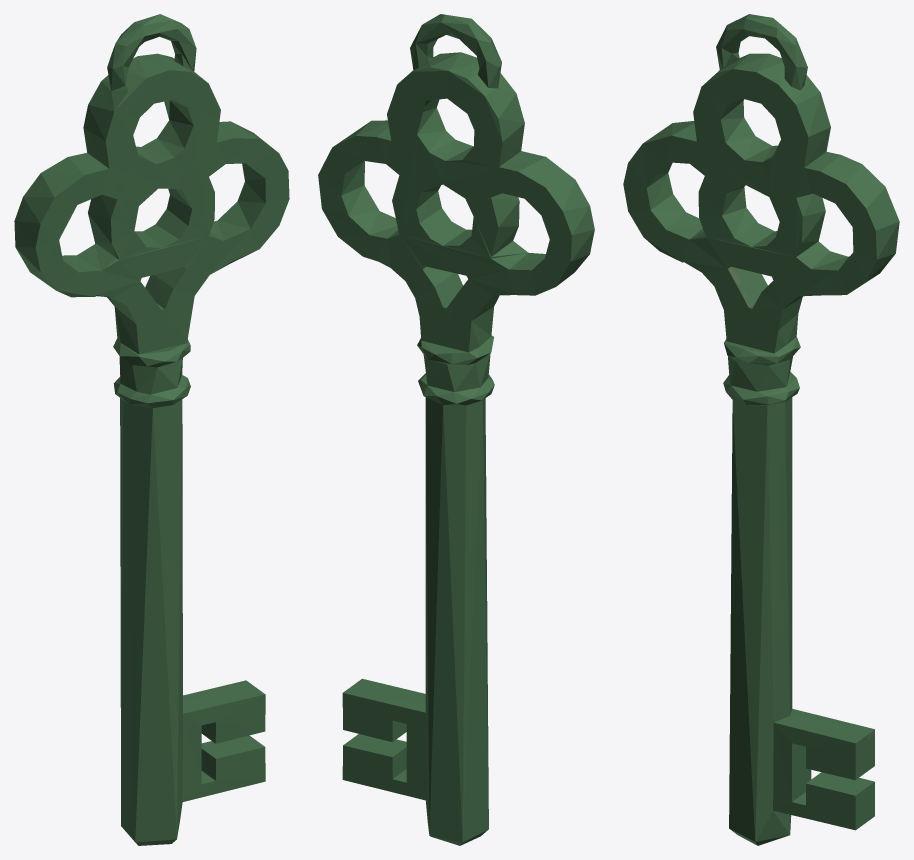
Rendered from key.obj.
The picture shows the model from 3 angles, left to right: view 1: azimuth 30°, elevation 25°; view 2: azimuth 150°, elevation 25°; view 3: azimuth 330°, elevation 25°; orthographic projection.
Visible parts, largest first — view 1: Key_OBJ; view 2: Key_OBJ; view 3: Key_OBJ.
Boxes of the visible parts, box(x1,y1,x2,y2) form: Key_OBJ: box(14, 14, 289, 845); Key_OBJ: box(318, 14, 594, 845); Key_OBJ: box(623, 14, 899, 845).
Size of the model in its own units: 9.64 by 29.65 by 2.56.
